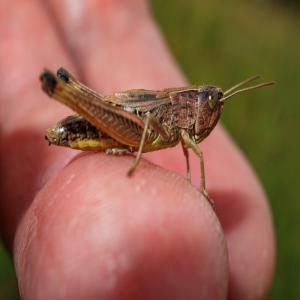locust: (45, 68, 264, 158)
